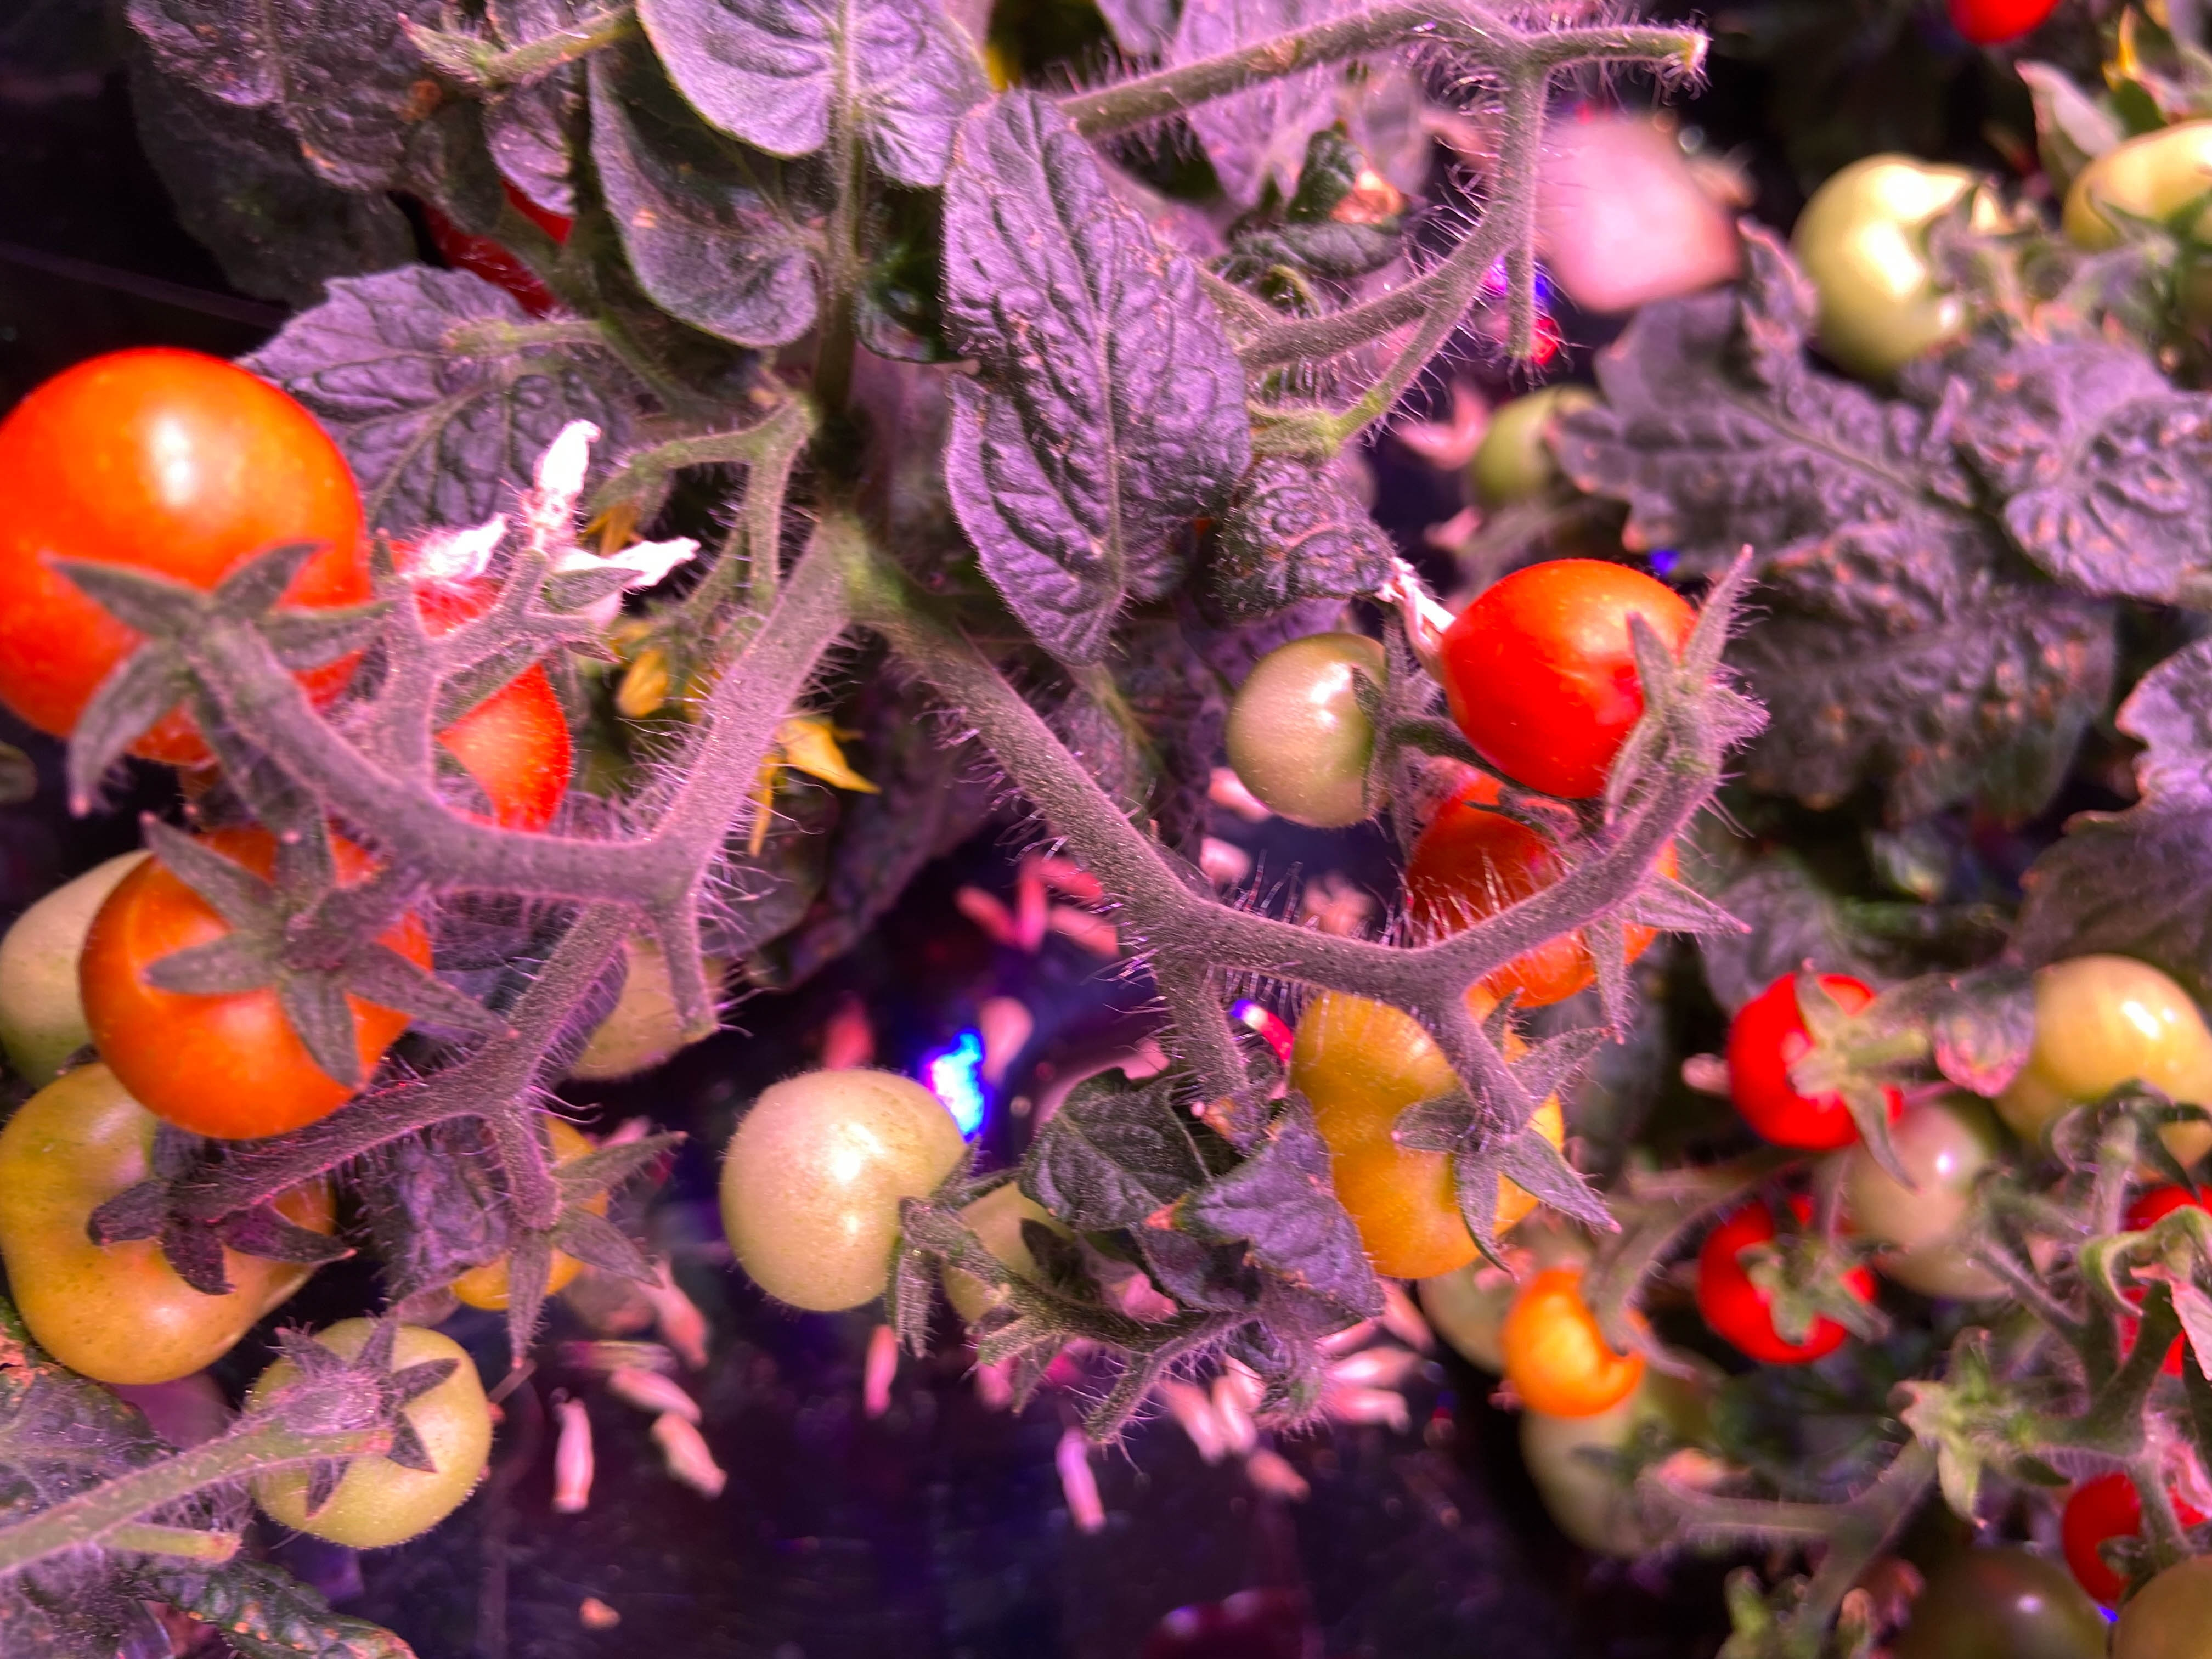green: (712, 1058, 961, 1317), (242, 1307, 493, 1549), (1787, 152, 2017, 373), (2015, 951, 2212, 1152), (2, 850, 162, 1084), (1843, 1093, 2027, 1291), (1223, 629, 1402, 830), (1524, 1399, 1712, 1556), (547, 924, 718, 1080), (2066, 117, 2212, 296), (1905, 1546, 2109, 1659), (939, 1178, 1090, 1330)
red: (0, 329, 374, 767), (78, 823, 428, 1141), (268, 542, 568, 882), (0, 1056, 305, 1387), (1278, 965, 1559, 1279), (1439, 551, 1709, 796), (1407, 786, 1651, 1009), (408, 120, 629, 335), (1724, 965, 1904, 1145), (442, 1122, 601, 1312), (1693, 1204, 1874, 1368), (2059, 1460, 2207, 1614), (1503, 1274, 1644, 1417), (1468, 390, 1601, 511), (2114, 1182, 2212, 1288), (1940, 0, 2066, 42)
